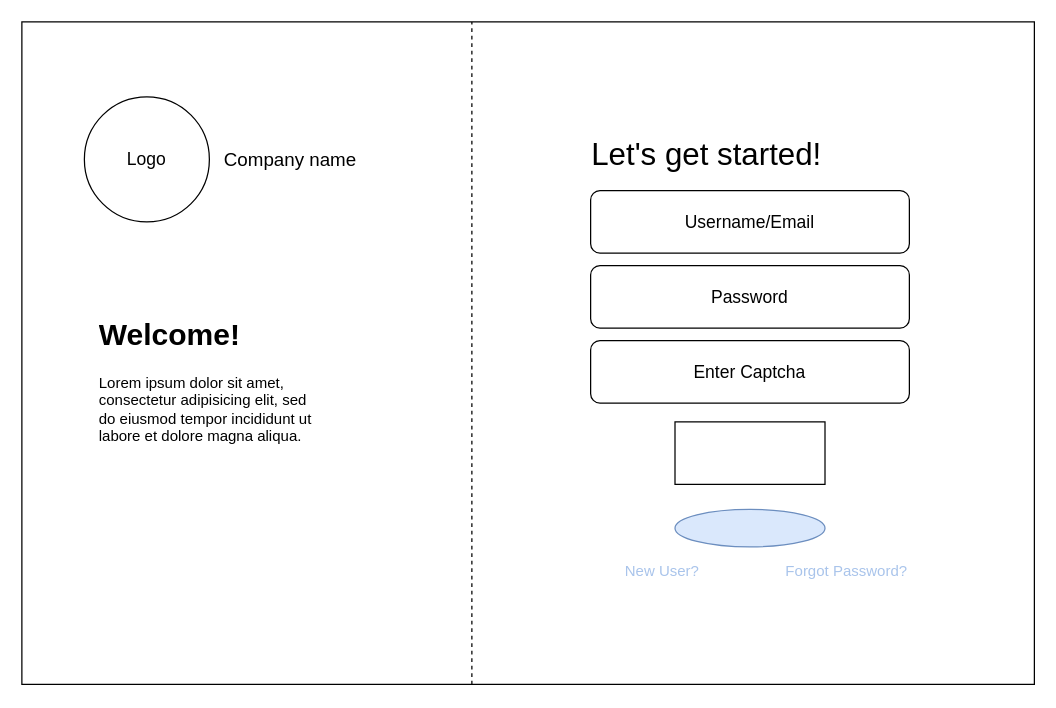
The diagram is 1056 pixels wide and 708 high, and some of its shapes have lost their labels. Here are the shapes that lost their labels. From the top down, the centre of each, then its label:
At [749,452]: "Captcha".
At [749,527]: "Login".
